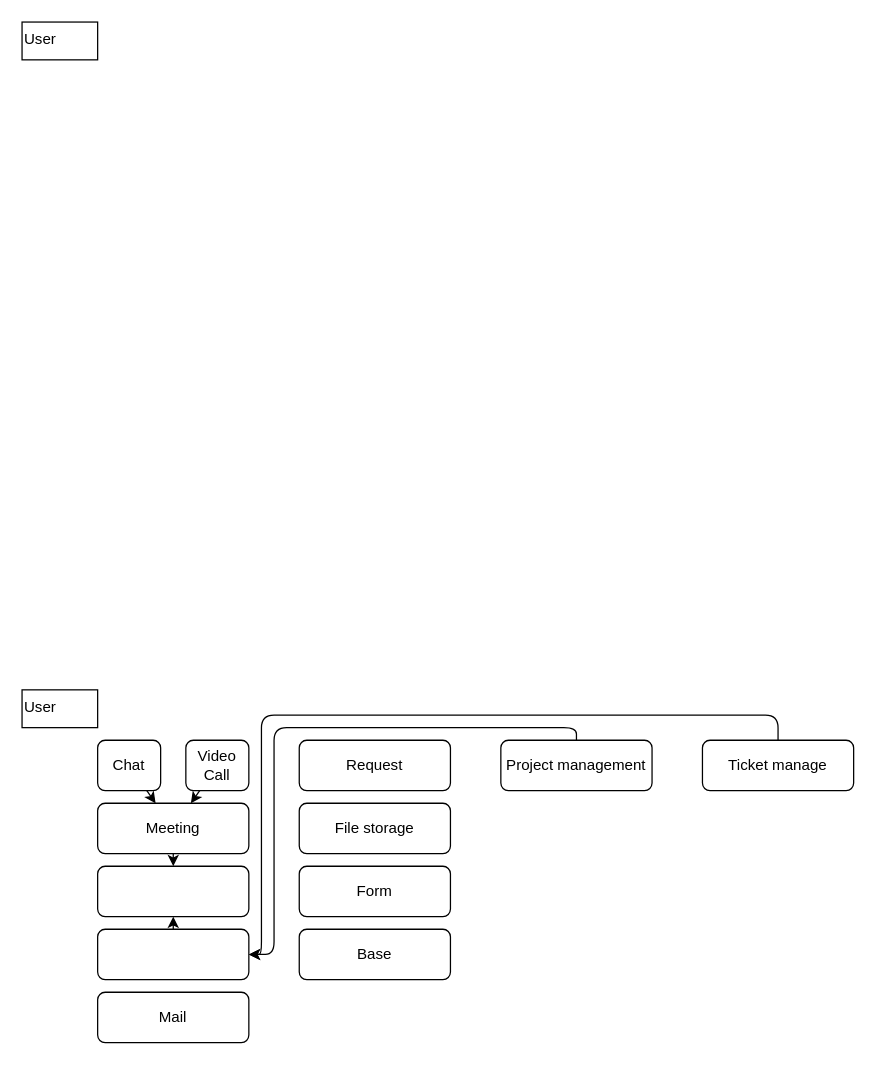
The diagram is 876 pixels wide and 1065 high, and some of its shapes have lost their labels. The shapes that lost their labels are listed below. From the top down, each one's centre as x and y in pixels, then its label:
At [172,891]: "Calendar".
At [172,954]: "Task".
